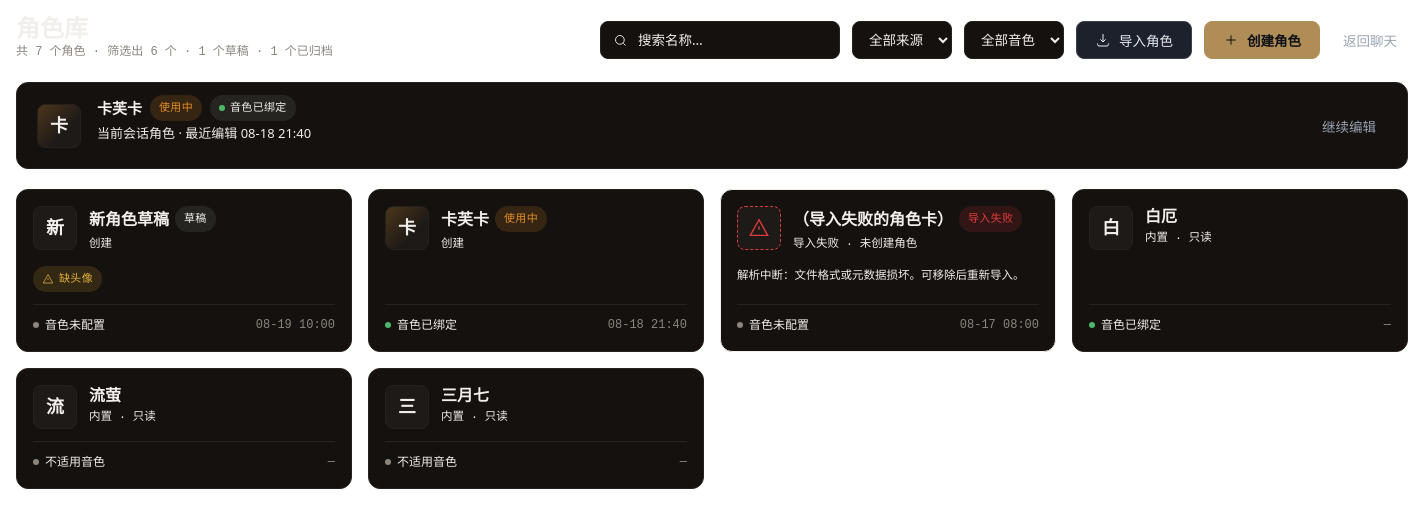
CharacterLibraryPage › 筛选 › 按来源筛选「archived」只显示符合条件的卡
The width and height of the screenshot is (1425, 506).
Select "已归档" in the dropdown named "按来源筛选" at (902, 40), box left=852, top=21, right=952, bottom=59
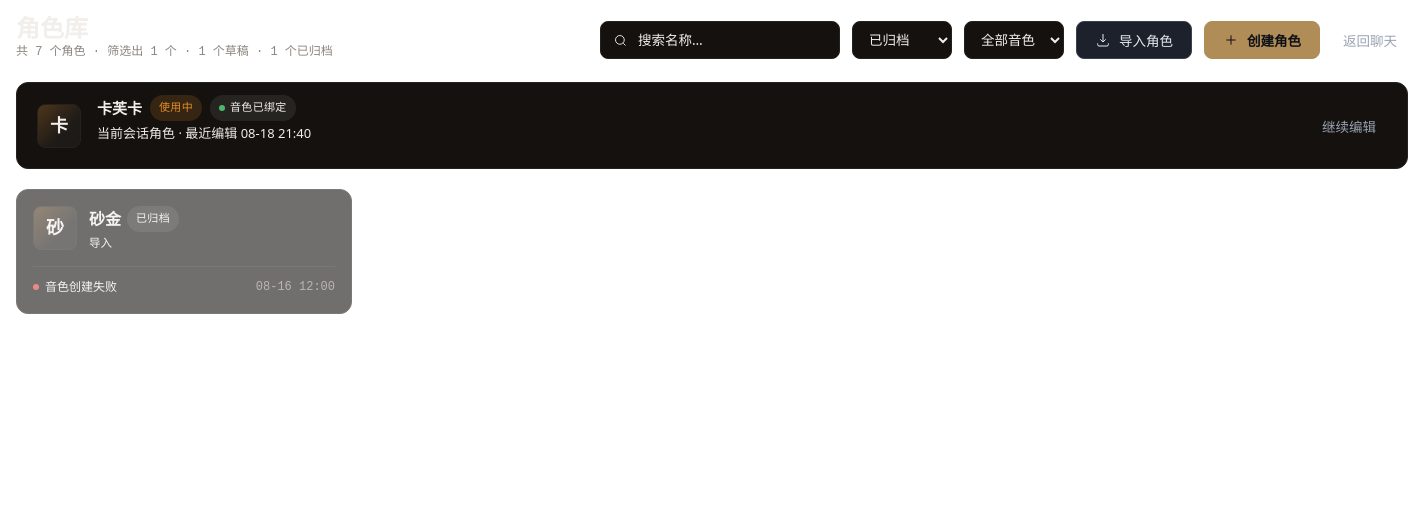
Check: the element with test id "char-card-card-imported-004" is shown, box left=16, top=189, right=352, bottom=314
Check: the element with test id "char-card-card-saved-002" is gone
